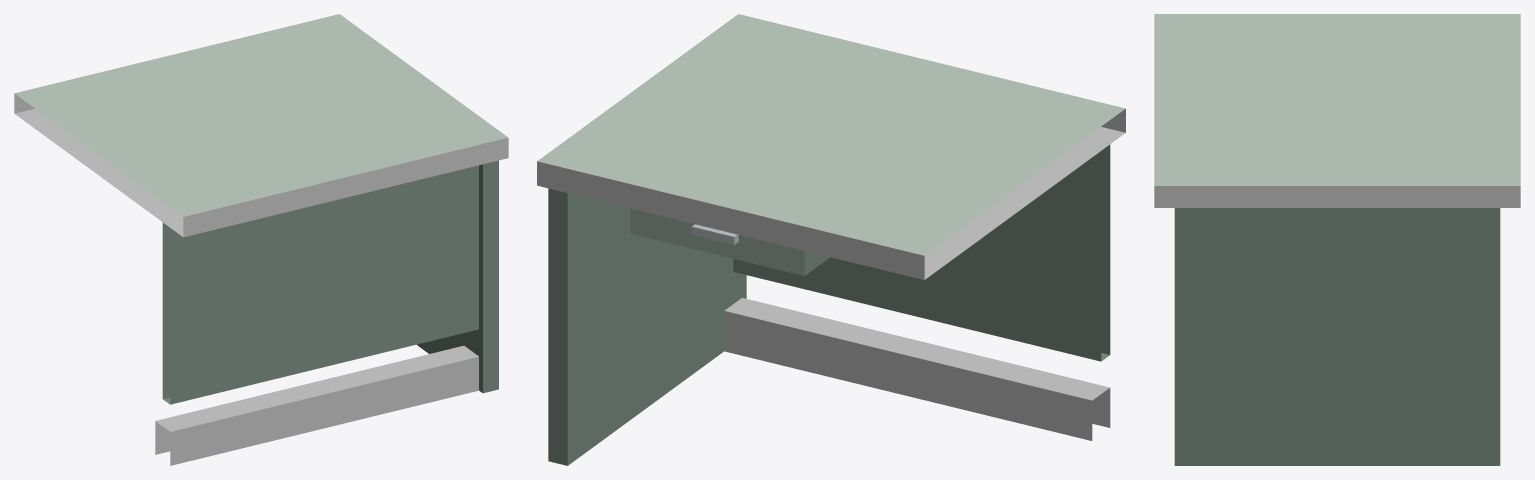
The model's file is supervisor_knee.obj.
The picture shows the model from 3 angles, left to right: view 1: azimuth 30°, elevation 25°; view 2: azimuth 150°, elevation 25°; view 3: azimuth 270°, elevation 25°; orthographic projection. The views are drawn at different scales.
Parts seen in each view (by area): view 1: supervisor_knee; view 2: supervisor_knee; view 3: supervisor_knee.
Part boxes in pixels (x1=…): supervisor_knee: x1=14, y1=14, x2=508, y2=465; supervisor_knee: x1=537, y1=14, x2=1125, y2=465; supervisor_knee: x1=1154, y1=14, x2=1520, y2=465.
Size of the model in its own units: 1 by 0.76 by 0.9.
